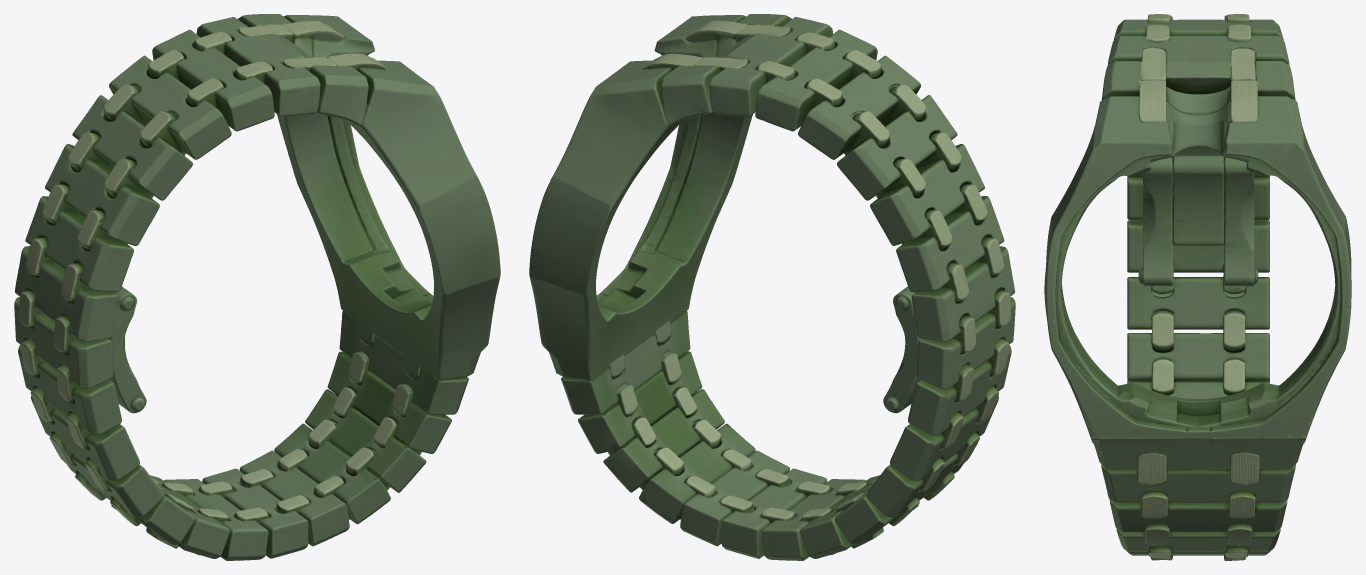
File: green.opt.glb
3 renders of one model, left to right at view 1: azimuth 30°, elevation 25°; view 2: azimuth 150°, elevation 25°; view 3: azimuth 270°, elevation 25°, orthographic.
Parts seen in each view (by area): view 1: tripo_node_da36bf1e-766b-451a-92e3-019e5886a652; view 2: tripo_node_da36bf1e-766b-451a-92e3-019e5886a652; view 3: tripo_node_da36bf1e-766b-451a-92e3-019e5886a652.
Boxes of the visible parts, box(x1,y1,x2,y2) form: tripo_node_da36bf1e-766b-451a-92e3-019e5886a652: box(14, 14, 500, 560); tripo_node_da36bf1e-766b-451a-92e3-019e5886a652: box(529, 14, 1015, 560); tripo_node_da36bf1e-766b-451a-92e3-019e5886a652: box(1044, 14, 1351, 560).
Size of the model in its own units: 0.8376 by 0.9802 by 0.5513.
1 material, 1 textured.
